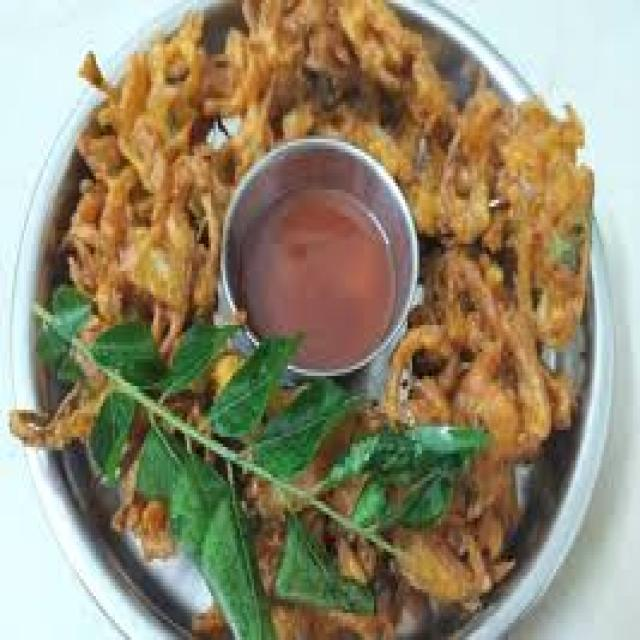BAJI: (68, 3, 592, 603)
